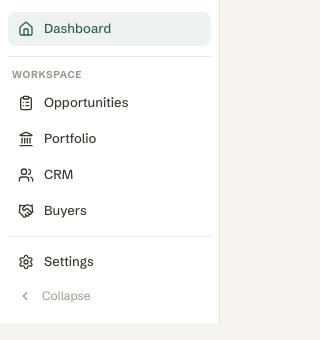
Test case: AppSidebar › collapses to icons and expands back, persisting to localStorage
The image size is (320, 340).
Expected: the text "Portfolio" is shown, [44,129,96,149]
Click the button with aria-label "Collapse sidebar". click: (110, 296)
box: [8,281,211,311]
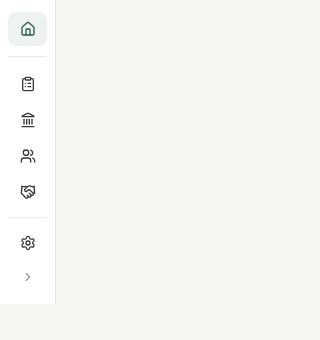
Expected: the link "Portfolio" is gone
Click the button named "Expand sidebar". click: (28, 277)
box: [8,262,47,292]
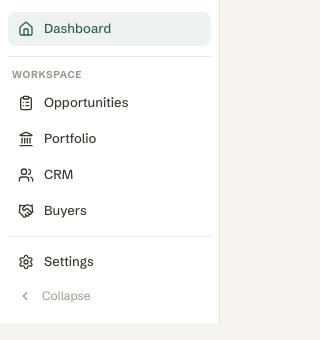
Expected: the text "Portfolio" is shown, [44,129,96,149]
